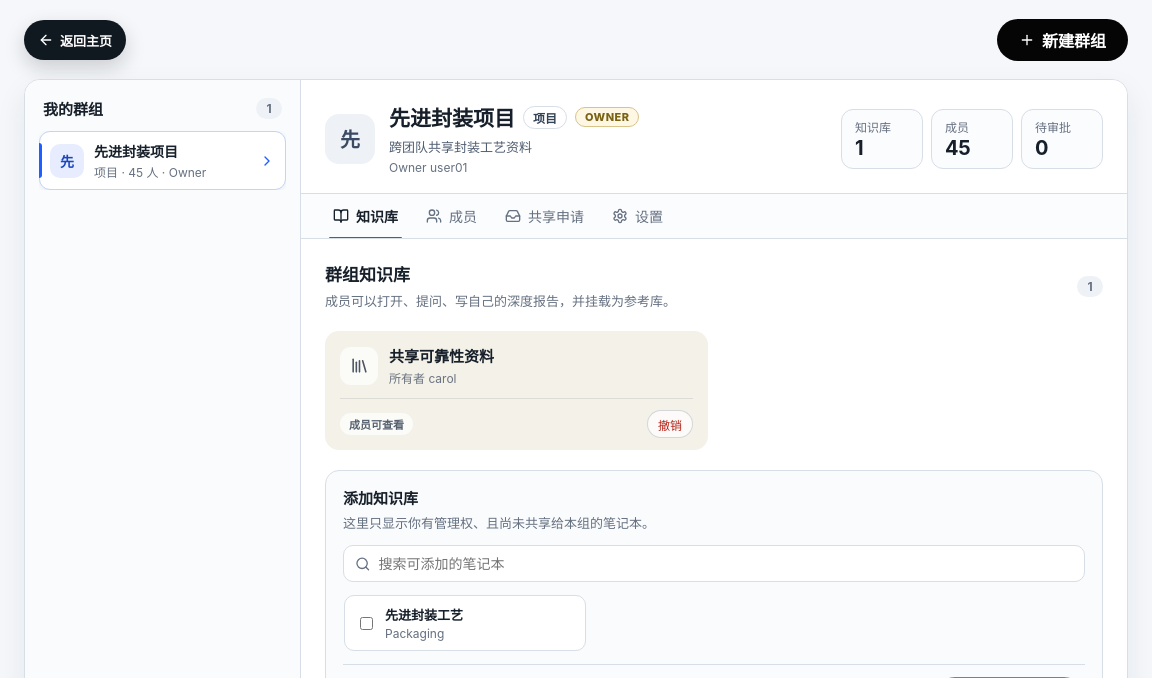
成员超过一页时分页展示，翻页后显示下一批成员
Check: the heading "先进封装项目" is shown, box [389,102,515,132]
Step 1. Click the button "成员" → [452, 216], box [414,194,489,238]
(page scrolled)
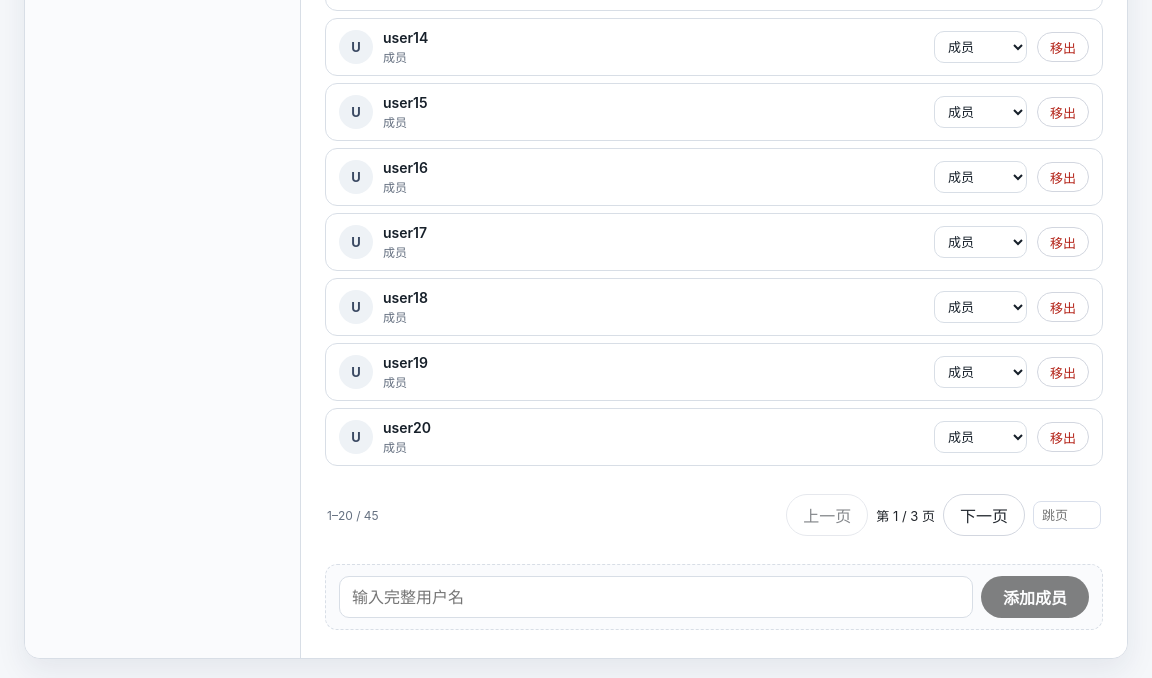
Check: the text "1–20 / 45" is shown, box [327,508,379,523]
Step 2. Click the button "下一页" → [984, 515], box [943,494,1025,536]
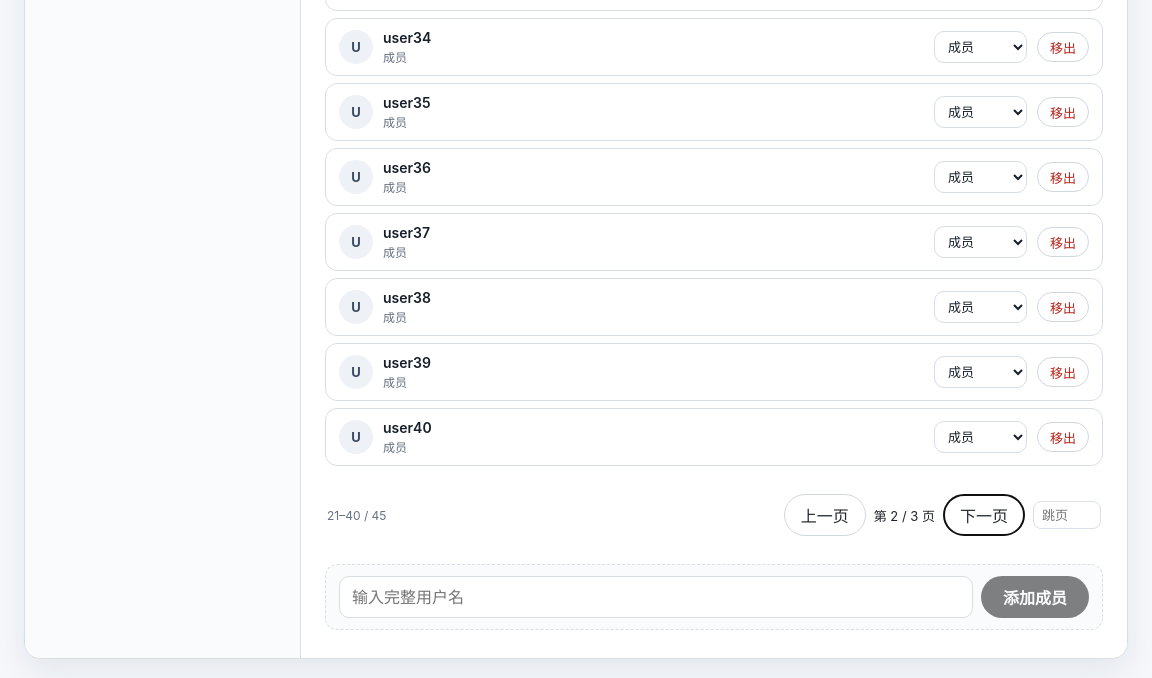
Step 3. Click the button "下一页" → [984, 515], box [943,494,1025,536]
(page scrolled)
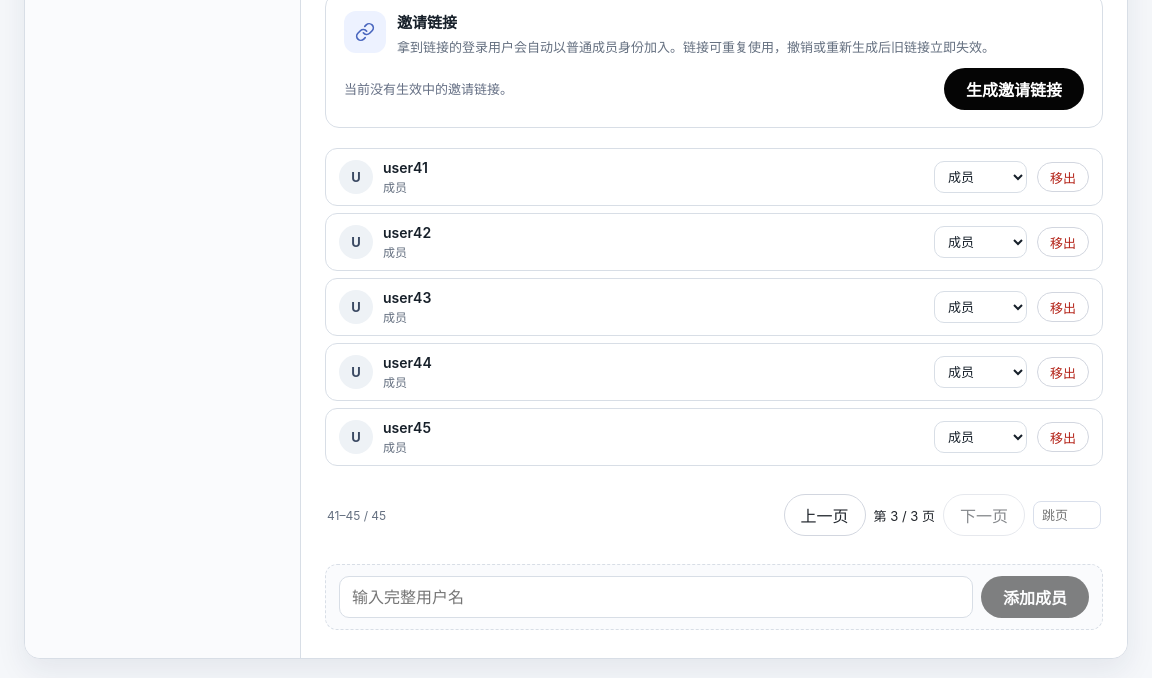
Check: the button "下一页" is disabled, box [943,494,1025,536]
